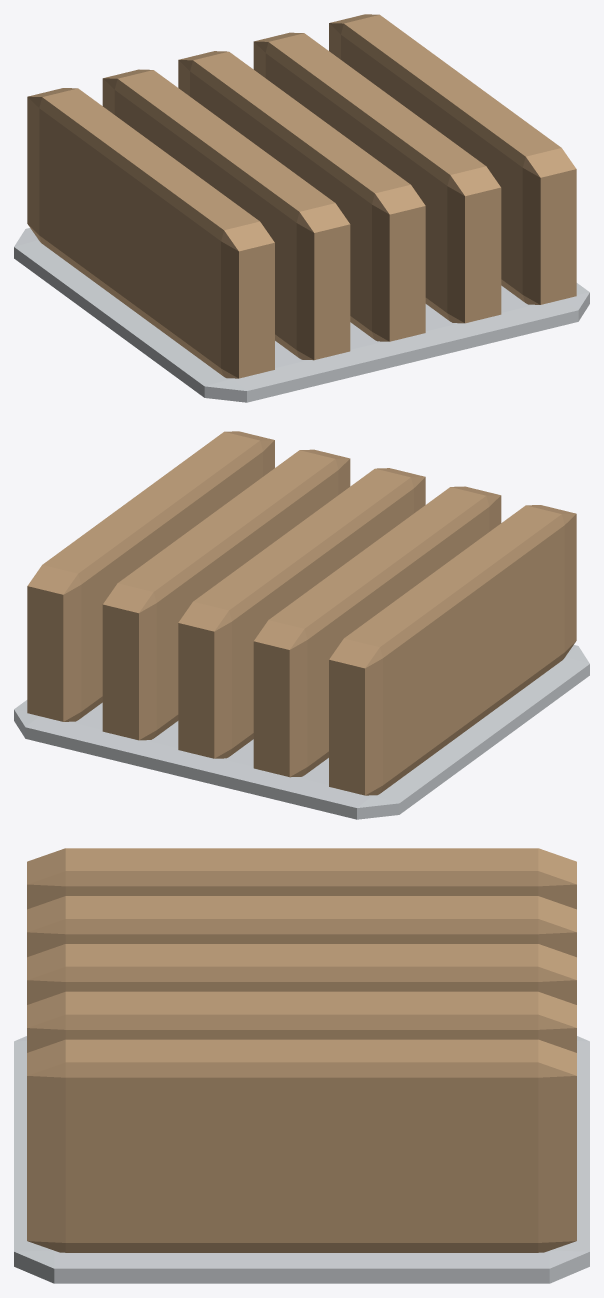
The model's file is b01_round_pedestal_picnic_table.glb.
3 views of the same model, one above another, from view 1: azimuth 30°, elevation 25°; view 2: azimuth 150°, elevation 25°; view 3: azimuth 270°, elevation 25° (orthographic). The views are drawn at different scales.
Visible parts, largest first — view 1: b01_round_pedestal_picnic_table; view 2: b01_round_pedestal_picnic_table; view 3: b01_round_pedestal_picnic_table.
Boxes of the visible parts, x1,y1,x2,y2 form: b01_round_pedestal_picnic_table: [14, 14, 589, 402]; b01_round_pedestal_picnic_table: [14, 431, 589, 819]; b01_round_pedestal_picnic_table: [14, 848, 589, 1283].
Size of the model in its own units: 2.02 by 0.8 by 2.01.
